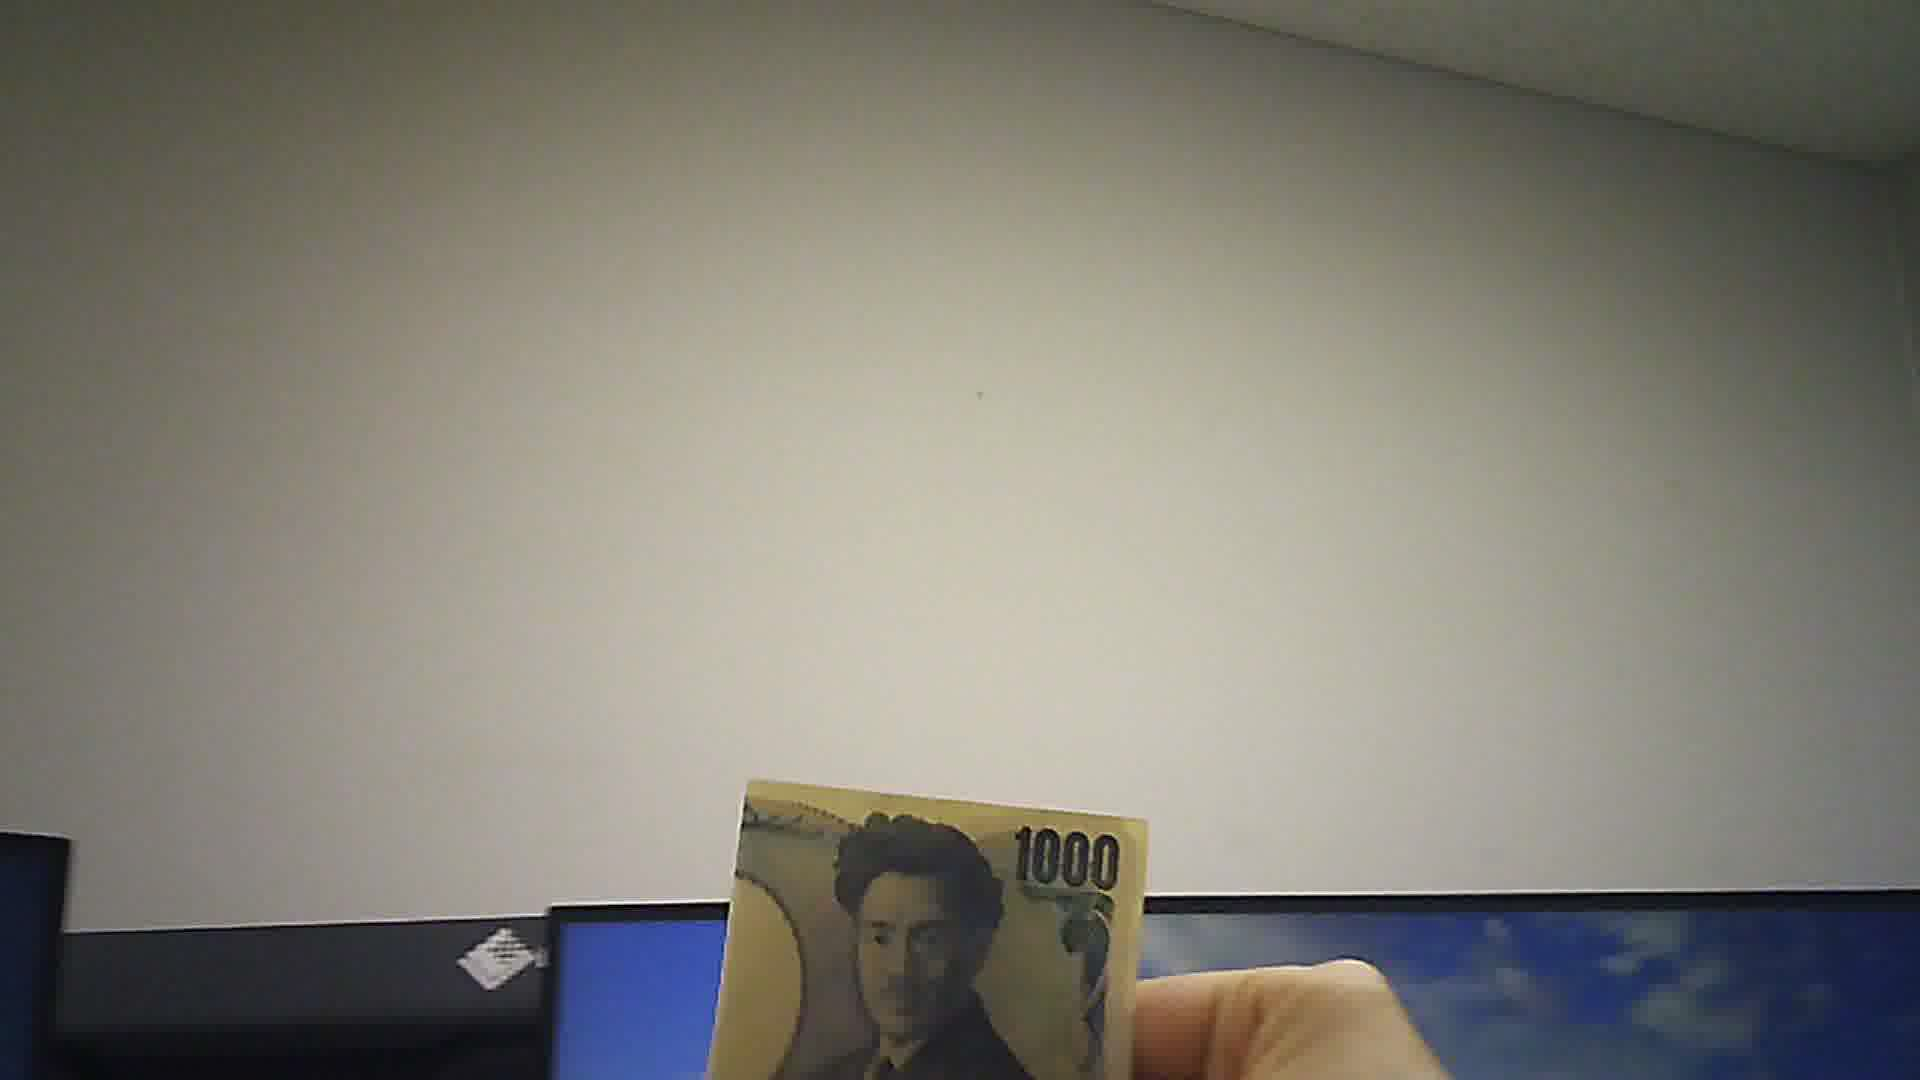1,000 Yen: (709, 774, 1149, 1071)
